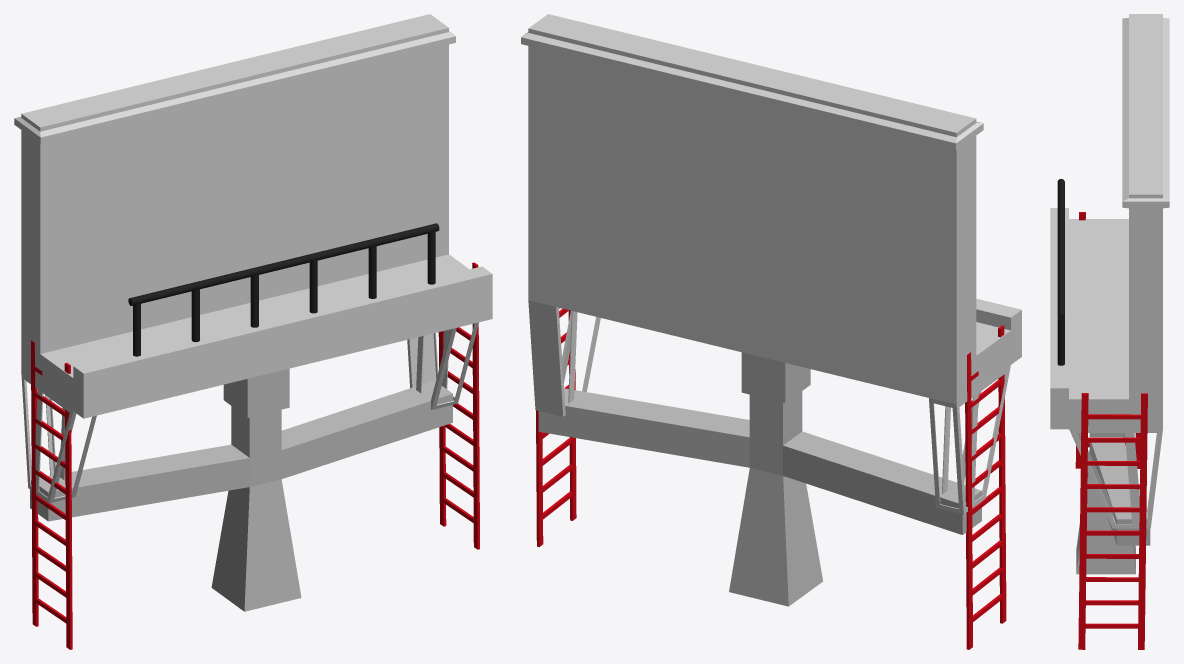
The model's file is BILLBOARD.fbx.
3 renders of one model, left to right at view 1: azimuth 30°, elevation 25°; view 2: azimuth 150°, elevation 25°; view 3: azimuth 270°, elevation 25°, orthographic. The views are drawn at different scales.
Visible parts, largest first — view 1: Cube.260, Cube.064, Cylinder.030, Plane.027, Plane.017; view 2: Cube.260, Cube.064, Plane.027, Plane.017; view 3: Cube.260, Plane.017, Cube.064, Cylinder.030, Plane.027.
Boxes of the visible parts, box(x1,y1,x2,y2) form: Cube.260: box(14, 14, 492, 503); Cube.064: box(30, 368, 452, 611); Cylinder.030: box(128, 223, 439, 356); Plane.027: box(31, 340, 72, 649); Plane.017: box(438, 262, 479, 549); Cube.260: box(521, 14, 1021, 514); Cube.064: box(538, 352, 981, 606); Plane.027: box(965, 325, 1006, 649); Plane.017: box(536, 308, 576, 547); Cube.260: box(1050, 14, 1169, 528); Plane.017: box(1078, 393, 1147, 649); Cube.064: box(1076, 433, 1150, 574); Cylinder.030: box(1057, 179, 1064, 365); Plane.027: box(1075, 212, 1140, 468).
Bounding box in the file's own units: 493 × 574 × 136.
